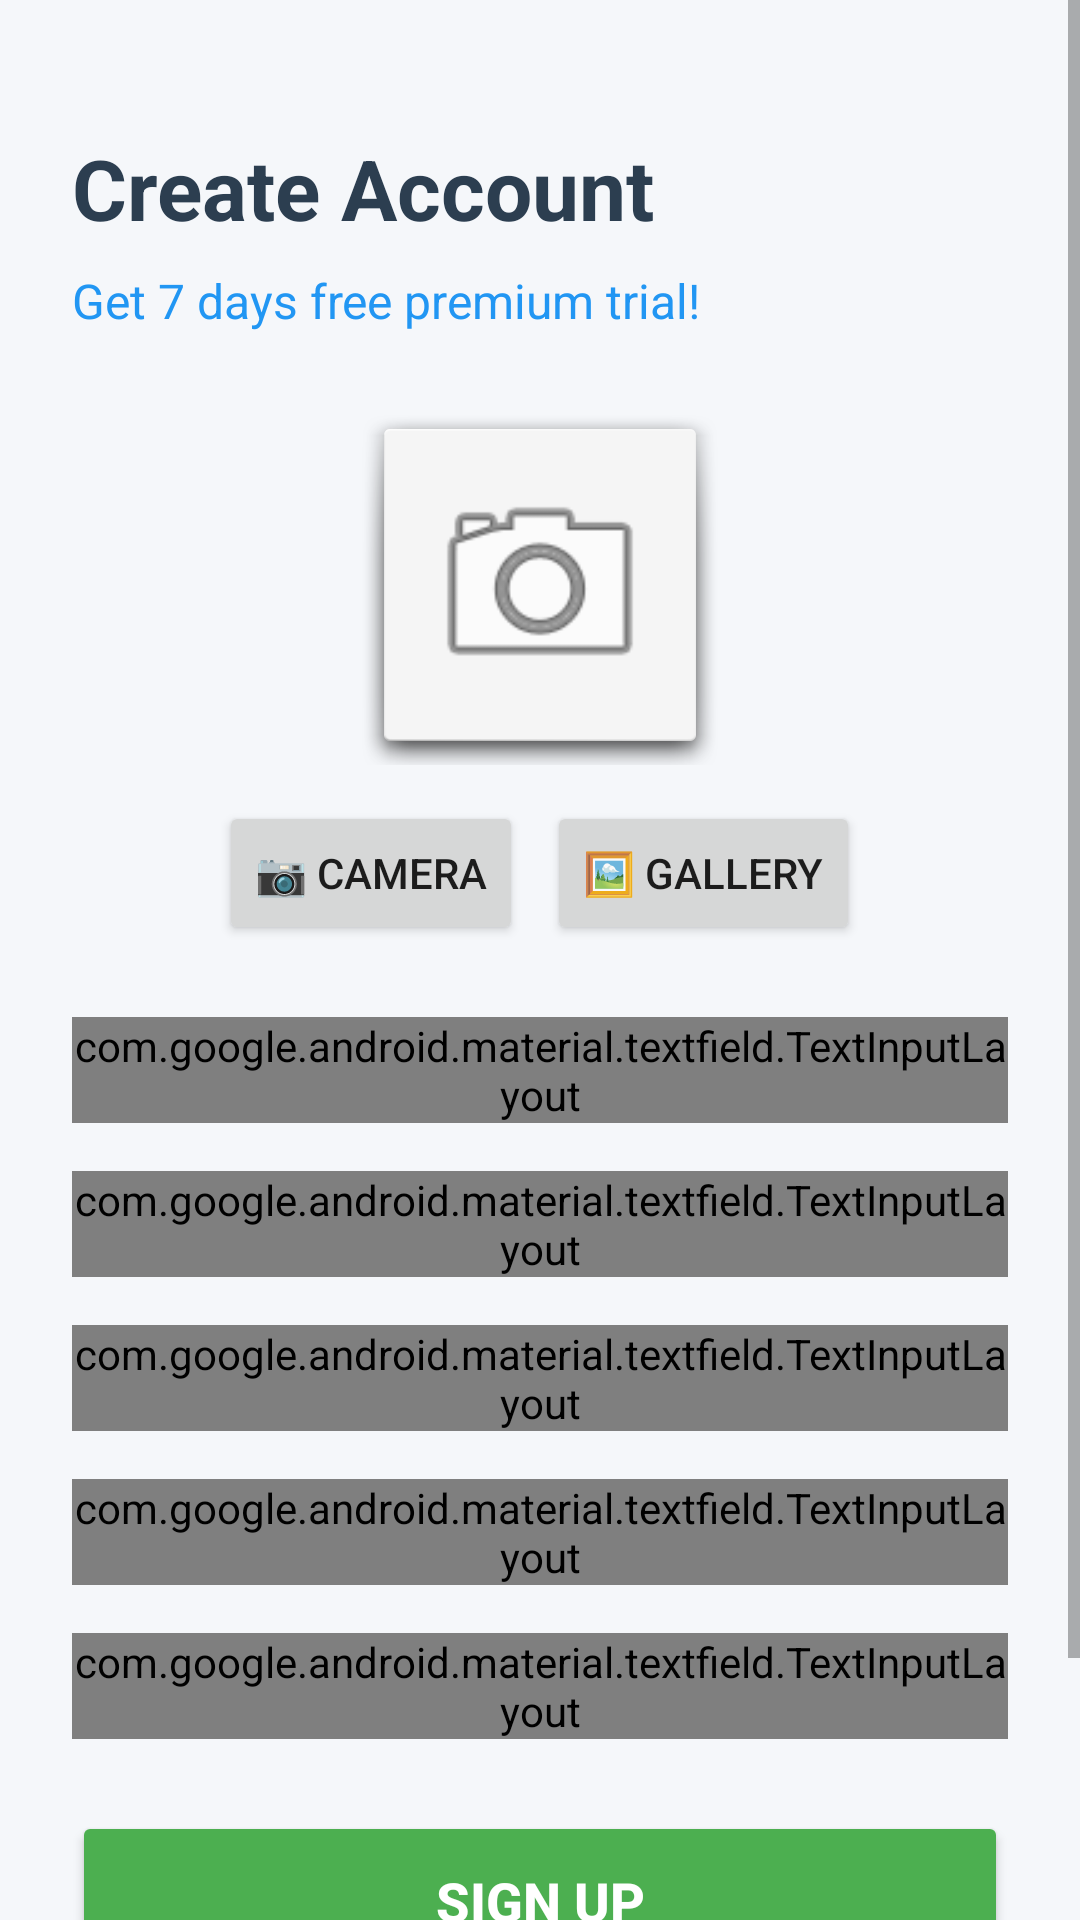

Named icons in this screenshot (1080px x 1920px) and their bounding boxes, (x1, y1, x2, y2):
Profile Photo: (372, 425, 708, 761)
